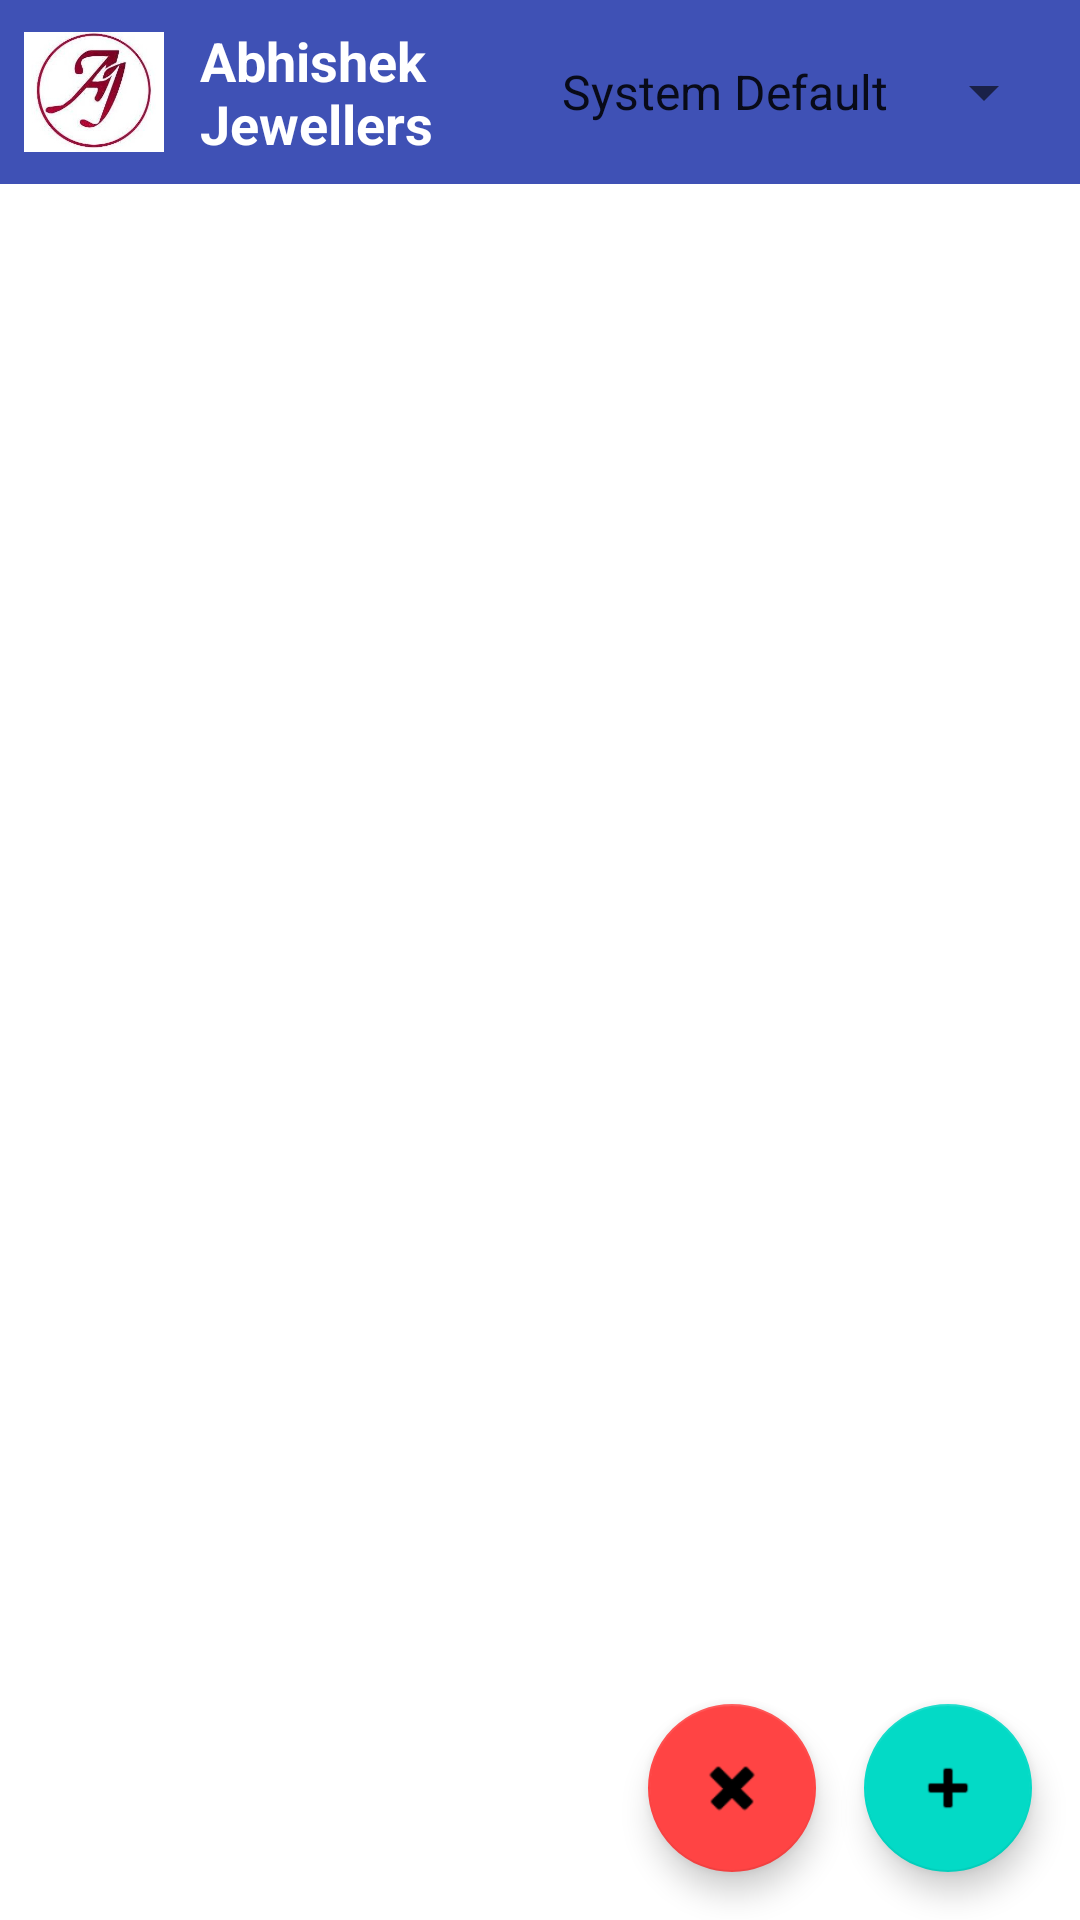

Named icons in this screenshot (1080 x 1920) and their bounding boxes, (x1, y1, x2, y2):
Add New Tab: (864, 1704, 1032, 1872)
Remove Current Tab: (648, 1704, 816, 1872)
